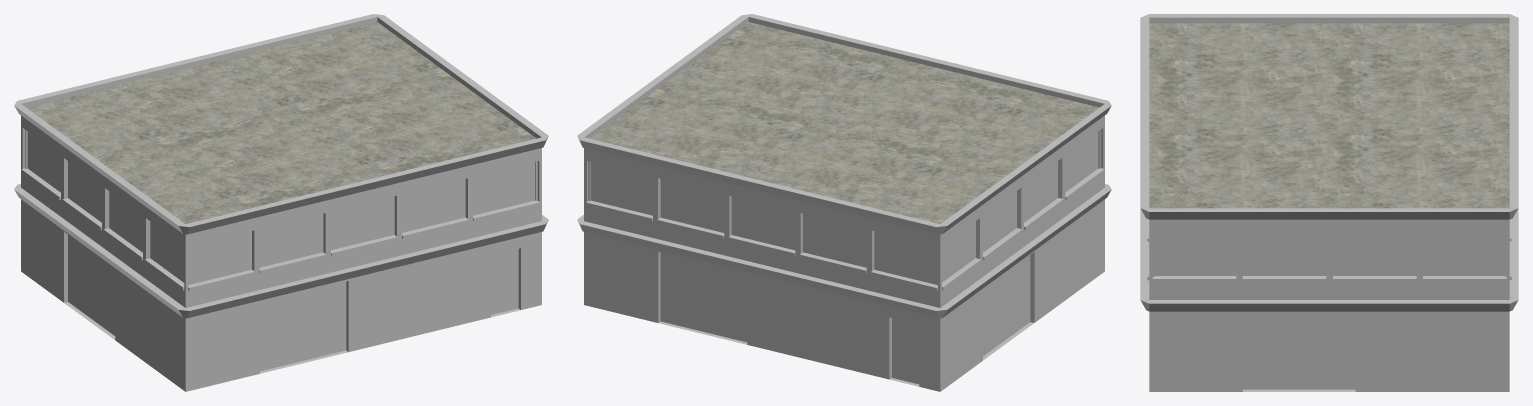
File: DT_Building_Type_07_07.fbx
3 renders of one model, left to right at view 1: azimuth 30°, elevation 25°; view 2: azimuth 150°, elevation 25°; view 3: azimuth 270°, elevation 25°, orthographic. The views are drawn at different scales.
Parts seen in each view (by area): view 1: DT_Building_Type_07_07; view 2: DT_Building_Type_07_07; view 3: DT_Building_Type_07_07.
Part boxes in pixels (x1,y1,x2,y2): DT_Building_Type_07_07: (14, 14, 548, 391); DT_Building_Type_07_07: (577, 14, 1111, 391); DT_Building_Type_07_07: (1140, 14, 1518, 391).
Size of the model in its own units: 1330 by 576 by 1074.
